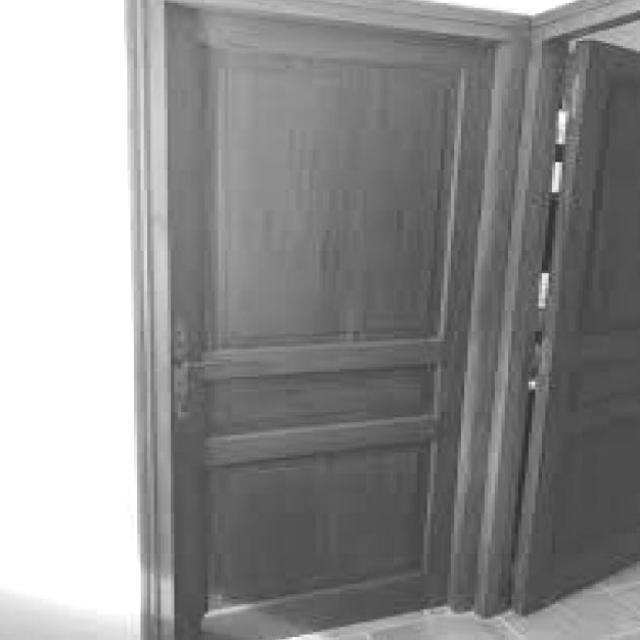door: (162, 3, 498, 637)
